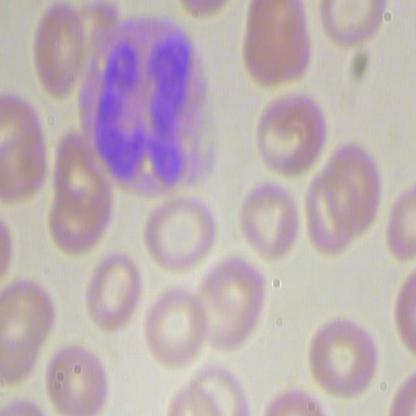RBC: (190, 252, 270, 354), (244, 90, 332, 180), (300, 319, 388, 400), (142, 194, 226, 273), (235, 176, 306, 263), (23, 1, 85, 100), (142, 282, 213, 368), (243, 1, 313, 87), (300, 169, 365, 257), (81, 248, 144, 338), (1, 95, 49, 210), (45, 341, 113, 415)
WBC: (76, 16, 231, 204)
